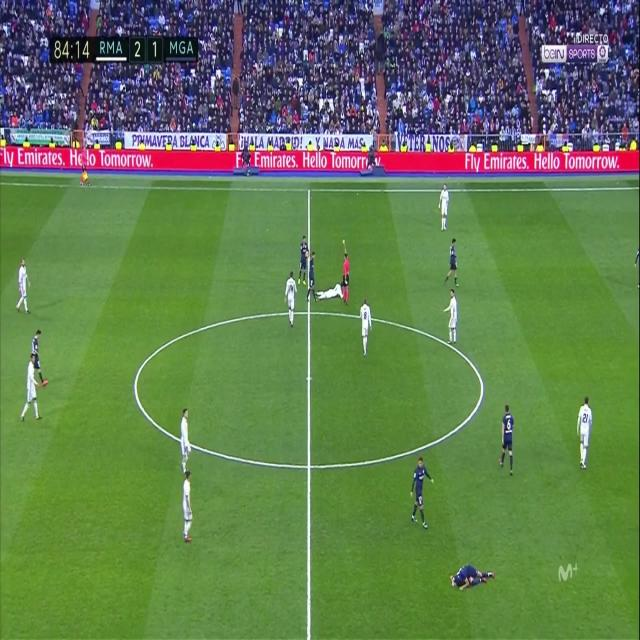Ball: (305, 250, 309, 259)
Player: (16, 354, 42, 426), (410, 456, 434, 530), (448, 559, 497, 593), (574, 391, 594, 473), (496, 402, 516, 476), (29, 324, 49, 390), (180, 472, 196, 545), (178, 407, 194, 475), (14, 257, 32, 317), (442, 235, 460, 289), (443, 288, 459, 347), (358, 298, 373, 357), (284, 272, 298, 331), (306, 250, 318, 308), (296, 237, 309, 286), (438, 185, 450, 234), (315, 282, 345, 301)
Referee: (340, 244, 351, 308)
